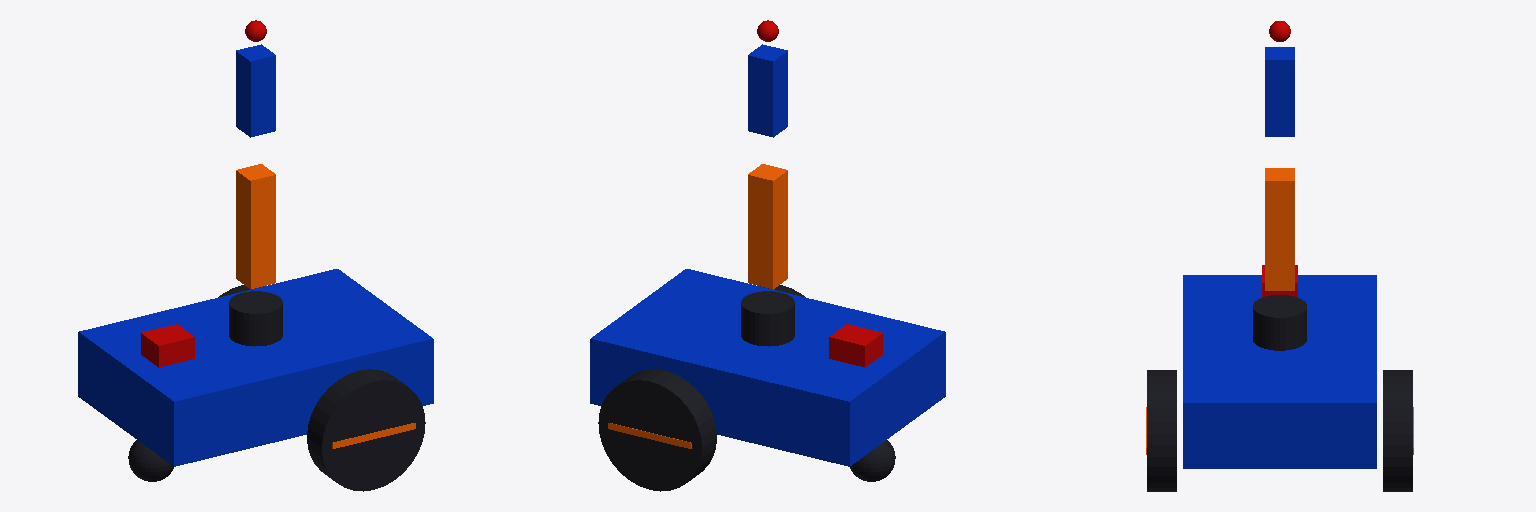
URDF robot description (diff_robot_with_arm):
<?xml version="1.0"?>
<robot name="diff_robot_with_arm">
<material name="blue"><color rgba="0.05 0.25 0.8 1"/></material>
<material name="grey"><color rgba="0.15 0.15 0.18 1"/></material>
<material name="orange"><color rgba="1 0.42 0.04 1"/></material>
<material name="red"><color rgba="0.8 0.05 0.05 1"/></material>
<material name="white"><color rgba="0.9 0.9 0.9 1"/></material>
<link name="base_footprint"/>
<link name="base_link">
 <visual><geometry><box size="0.50 0.32 0.12"/></geometry><material name="blue"/></visual>
 <collision><geometry><box size="0.50 0.32 0.12"/></geometry></collision>
</link>
<joint name="base_joint" type="fixed"><parent link="base_footprint"/><child link="base_link"/><origin xyz="0 0 0.16"/></joint>
<link name="caster_link"><visual><geometry><sphere radius="0.04"/></geometry><material name="grey"/></visual><collision><geometry><sphere radius="0.04"/></geometry></collision></link>
<joint name="caster_joint" type="fixed"><parent link="base_link"/><child link="caster_link"/><origin xyz="-0.20 0 -0.12"/></joint>
<link name="wheel_left">
  <visual><origin rpy="1.5707963267948966 0 0"/><geometry><cylinder radius="0.1" length="0.05"/></geometry><material name="grey"/></visual>
  <collision><origin rpy="1.5707963267948966 0 0"/><geometry><cylinder radius="0.1" length="0.05"/></geometry></collision>
</link>
<joint name="wheel_left_joint" type="continuous"><parent link="base_link"/><child link="wheel_left"/><origin xyz="0.10 0.195 -0.06"/><axis xyz="0 1 0"/></joint>
<!-- A visible radial spoke makes rotation observable in RViz. -->
<link name="spoke_left"><visual><geometry><box size="0.16 0.052 0.012"/></geometry><material name="orange"/></visual></link>
<joint name="spoke_left_joint" type="fixed"><parent link="wheel_left"/><child link="spoke_left"/></joint>
<link name="wheel_right">
  <visual><origin rpy="1.5707963267948966 0 0"/><geometry><cylinder radius="0.1" length="0.05"/></geometry><material name="grey"/></visual>
  <collision><origin rpy="1.5707963267948966 0 0"/><geometry><cylinder radius="0.1" length="0.05"/></geometry></collision>
</link>
<joint name="wheel_right_joint" type="continuous"><parent link="base_link"/><child link="wheel_right"/><origin xyz="0.10 -0.195 -0.06"/><axis xyz="0 1 0"/></joint>
<!-- A visible radial spoke makes rotation observable in RViz. -->
<link name="spoke_right"><visual><geometry><box size="0.16 0.052 0.012"/></geometry><material name="orange"/></visual></link>
<joint name="spoke_right_joint" type="fixed"><parent link="wheel_right"/><child link="spoke_right"/></joint>
<link name="arm_mount"><visual><geometry><cylinder radius="0.045" length="0.06"/></geometry><material name="grey"/></visual></link>
<joint name="arm_mount_joint" type="fixed"><parent link="base_link"/><child link="arm_mount"/><origin xyz="0 0 0.09"/></joint>
<link name="arm_link_1">
 <visual><origin xyz="0 0 0.14"/><geometry><box size="0.05 0.05 0.20"/></geometry><material name="orange"/></visual>
 <collision><origin xyz="0 0 0.14"/><geometry><box size="0.05 0.05 0.20"/></geometry></collision>
</link>
<joint name="shoulder_joint" type="revolute"><parent link="arm_mount"/><child link="arm_link_1"/><origin xyz="0 0 0.03"/><axis xyz="0 1 0"/><limit lower="-0.6" upper="0.6" effort="10" velocity="1"/></joint>
<link name="arm_link_2">
 <visual><origin xyz="0 0 0.11"/><geometry><box size="0.05 0.05 0.14"/></geometry><material name="blue"/></visual>
 <collision><origin xyz="0 0 0.11"/><geometry><box size="0.05 0.05 0.14"/></geometry></collision>
</link>
<joint name="elbow_joint" type="revolute"><parent link="arm_link_1"/><child link="arm_link_2"/><origin xyz="0 0 0.28"/><axis xyz="0 1 0"/><limit lower="-0.8" upper="0.8" effort="5" velocity="1"/></joint>
<link name="tool_link"><visual><geometry><sphere radius="0.018"/></geometry><material name="red"/></visual></link>
<joint name="tool_joint" type="fixed"><parent link="arm_link_2"/><child link="tool_link"/><origin xyz="0 0 0.22"/></joint>
<link name="sensor_link"><visual><geometry><mesh filename="package://my_robot_model/meshes/sensor.stl" scale="1 1 1"/></geometry><material name="red"/></visual></link>
<joint name="sensor_joint" type="fixed"><parent link="base_link"/><child link="sensor_link"/><origin xyz="-0.17 0 0.06"/></joint>
</robot>

--- Render facts (derived) ---
Views: 3 orthographic renders of the robot side by side, from view 1: azimuth 30°, elevation 25°; view 2: azimuth 150°, elevation 25°; view 3: azimuth 270°, elevation 25°.
Model diff_robot_with_arm with 12 links and 11 joints (2 revolute, 2 continuous, 7 fixed), rooted at base_footprint, posed all joints at 0.
Links seen in each view (by area): view 1: base_link, wheel_right, arm_link_1, arm_link_2, arm_mount, sensor_link, caster_link, spoke_right; view 2: base_link, wheel_left, arm_link_1, arm_link_2, arm_mount, sensor_link, caster_link, spoke_left; view 3: base_link, arm_link_1, wheel_left, wheel_right, arm_mount, arm_link_2.
Boxes of the visible links, box(x1,y1,x2,y2) form: base_link: box(78, 269, 433, 466); wheel_right: box(307, 369, 425, 491); arm_link_1: box(236, 164, 275, 289); arm_link_2: box(236, 44, 275, 137); arm_mount: box(229, 291, 282, 346); sensor_link: box(141, 324, 194, 367); caster_link: box(128, 440, 173, 481); spoke_right: box(332, 423, 415, 448); base_link: box(590, 269, 945, 466); wheel_left: box(598, 369, 716, 491); arm_link_1: box(748, 164, 787, 289); arm_link_2: box(748, 44, 787, 137); arm_mount: box(741, 291, 794, 346); sensor_link: box(829, 324, 882, 367); caster_link: box(850, 440, 895, 481); spoke_left: box(608, 423, 691, 448); base_link: box(1183, 275, 1376, 468); arm_link_1: box(1265, 168, 1294, 290); wheel_left: box(1383, 370, 1412, 491); wheel_right: box(1147, 370, 1176, 491); arm_mount: box(1253, 295, 1306, 350); arm_link_2: box(1265, 47, 1294, 136).
Bounding box of the posed robot: 0.5 × 0.442 × 0.798 m (x, y, z).
1 mesh visuals loaded from 1 distinct referenced files (1 binary STL).
